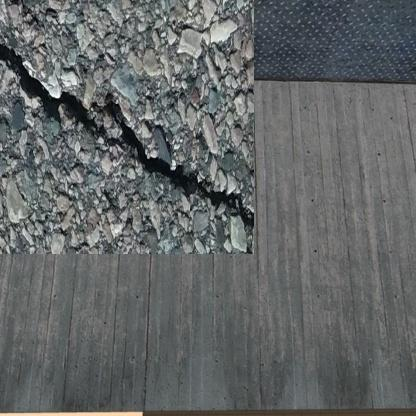Cracks: (0, 29, 234, 215), (134, 110, 159, 146), (0, 0, 34, 21)
